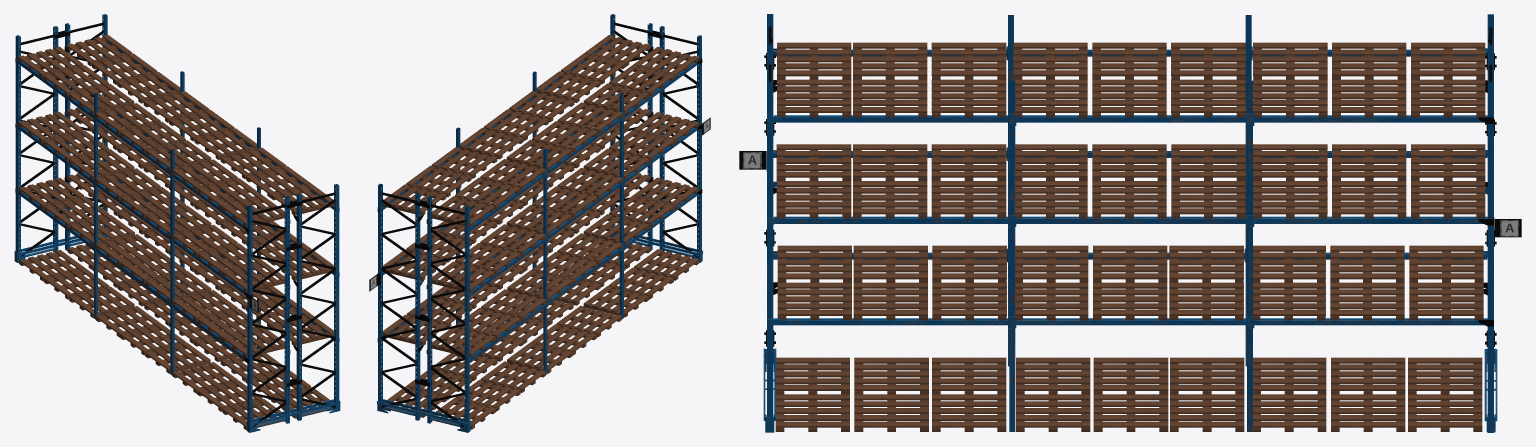
Rendered from shelf.glb.
The picture shows the model from 3 angles, left to right: view 1: azimuth 30°, elevation 25°; view 2: azimuth 150°, elevation 25°; view 3: azimuth 270°, elevation 25°; orthographic projection. The views are drawn at different scales.
Parts seen in each view (by area): view 1: shelf; view 2: shelf; view 3: shelf.
Part boxes in pixels (bbox=[...]): shelf: bbox=[14, 14, 340, 432]; shelf: bbox=[369, 14, 710, 432]; shelf: bbox=[739, 14, 1521, 432].
Bounding box in the file's own units: 2.19 × 5.2 × 10.51.
Materials: 3 (3 with a texture image).
